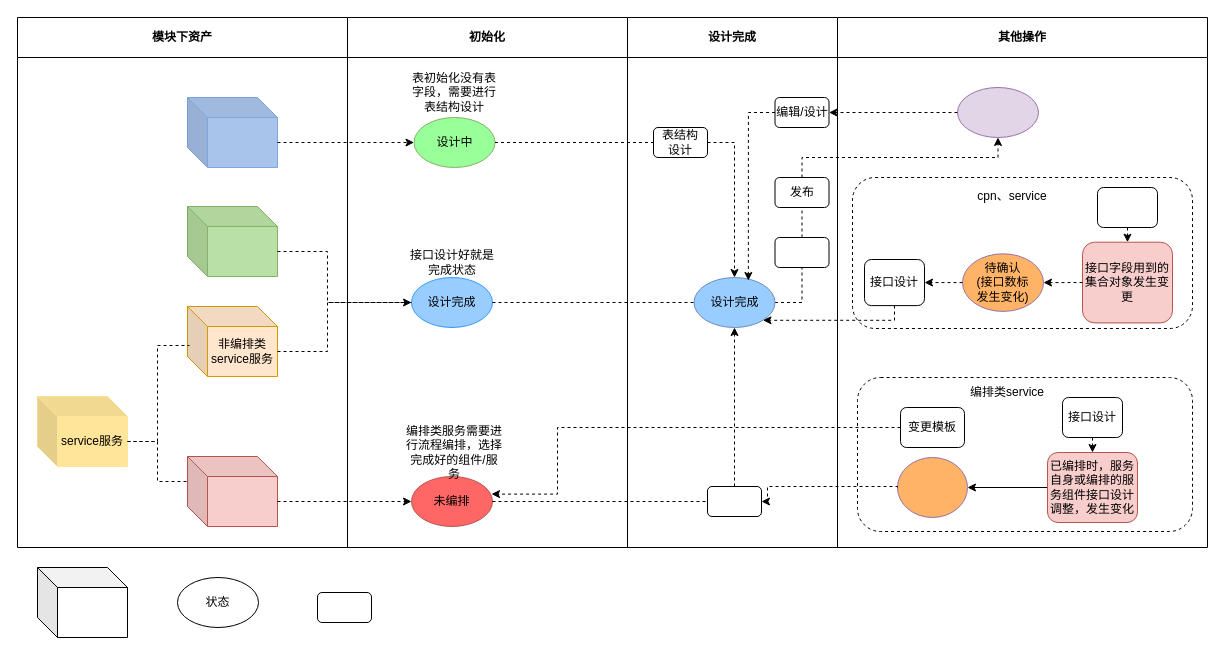
The diagram is 1225 pixels wide and 655 high, and some of its shapes have lost their labels. Each missing label, with the centre of its shape:
cpn组件: point 232,241
table表: point 232,132
已发布: point 997,112
待确认 (编排节点 接口数标发生变化): point 932,487
操作: point 344,607
数标变更: point 1127,207
流程编排: point 734,501
添加到待发布列表: point 801,252
编排类 service服务: point 232,491
资产: point 82,602
